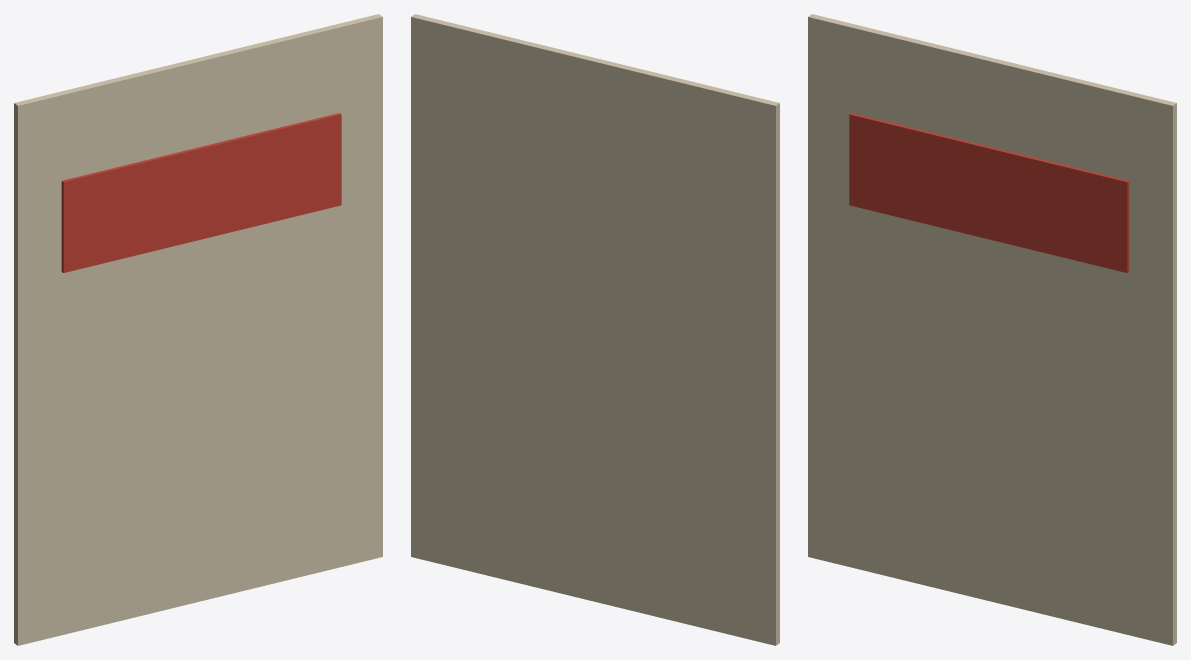
The model's file is flyer.glb.
3 views of the same model, side by side, from view 1: azimuth 30°, elevation 25°; view 2: azimuth 150°, elevation 25°; view 3: azimuth 330°, elevation 25° (orthographic).
Parts seen in each view (by area): view 1: flyer, headline; view 2: flyer; view 3: flyer, headline.
Boxes of the visible parts, box(x1,y1,x2,y2) form: flyer: box(14, 14, 382, 645); headline: box(61, 113, 341, 272); flyer: box(411, 14, 779, 645); flyer: box(808, 14, 1176, 645); headline: box(849, 113, 1129, 272).
Bounding box in the file's own units: 0.21 × 0.297 × 0.006.
